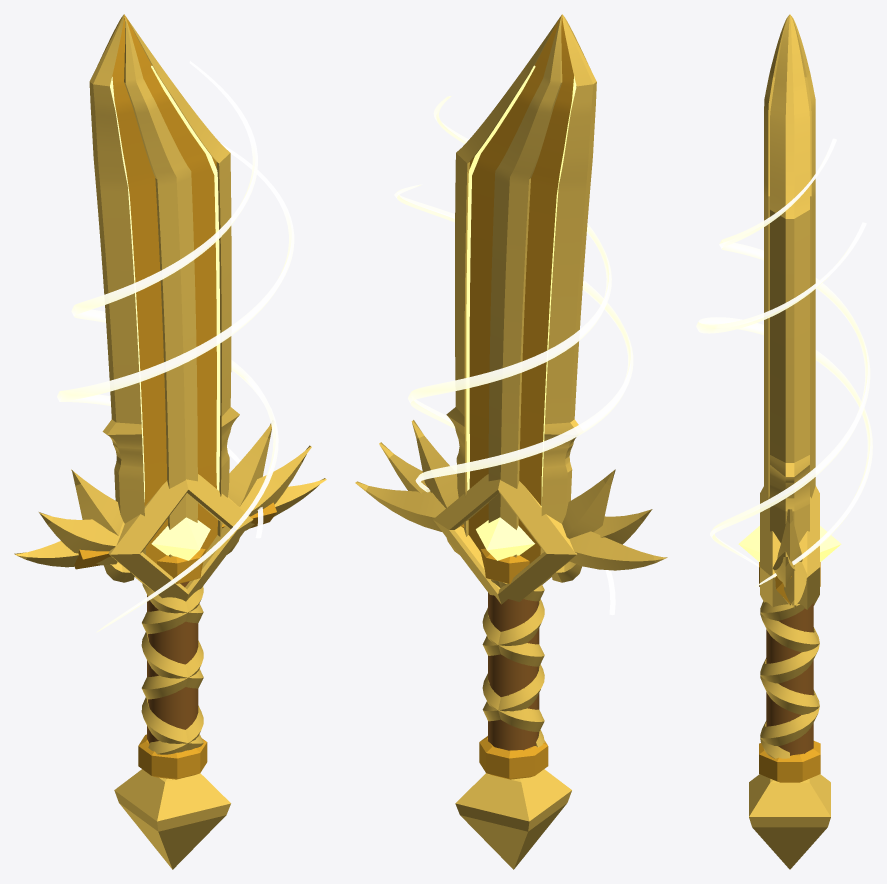
File: EpeeOr.fbx
3 views of the same model, side by side, from view 1: azimuth 30°, elevation 25°; view 2: azimuth 150°, elevation 25°; view 3: azimuth 270°, elevation 25° (orthographic). The views are drawn at different scales.
Parts seen in each view (by area): view 1: Lame, Fil, Gorge, Embout, Aura, Pommeau, Cadre, Tresse, Garde, Manche, Fissures, Gemme; view 2: Lame, Fil, Gorge, Embout, Aura, Cadre, Pommeau, Tresse, Manche, Garde, Fissures, Gemme; view 3: Fil, Aura, Pommeau, Gorge, Tresse, Cadre, Manche, Garde, Embout, Gemme.
Boxes of the visible parts, x1=… form: Lame: x1=112, y1=14, x2=217, y2=563; Fil: x1=89, y1=14, x2=239, y2=554; Gorge: x1=124, y1=15, x2=197, y2=557; Embout: x1=14, y1=423, x2=326, y2=582; Aura: x1=57, y1=61, x2=294, y2=632; Pommeau: x1=114, y1=769, x2=230, y2=869; Cadre: x1=108, y1=474, x2=253, y2=601; Tresse: x1=141, y1=583, x2=203, y2=754; Garde: x1=74, y1=502, x2=276, y2=779; Manche: x1=147, y1=581, x2=198, y2=743; Fissures: x1=110, y1=65, x2=220, y2=501; Gemme: x1=151, y1=517, x2=210, y2=560; Lame: x1=468, y1=15, x2=576, y2=563; Fil: x1=446, y1=14, x2=596, y2=554; Gorge: x1=488, y1=14, x2=562, y2=557; Embout: x1=355, y1=420, x2=667, y2=582; Aura: x1=394, y1=96, x2=633, y2=615; Cadre: x1=433, y1=474, x2=576, y2=604; Pommeau: x1=455, y1=769, x2=571, y2=869; Tresse: x1=482, y1=579, x2=544, y2=747; Manche: x1=488, y1=592, x2=539, y2=750; Garde: x1=409, y1=512, x2=603, y2=779; Fissures: x1=466, y1=65, x2=576, y2=506; Gemme: x1=476, y1=517, x2=534, y2=560; Fil: x1=770, y1=14, x2=809, y2=542; Aura: x1=696, y1=138, x2=872, y2=586; Pommeau: x1=749, y1=774, x2=830, y2=869; Gorge: x1=764, y1=15, x2=815, y2=498; Tresse: x1=760, y1=601, x2=819, y2=758; Cadre: x1=760, y1=486, x2=819, y2=609; Manche: x1=766, y1=603, x2=813, y2=755; Garde: x1=759, y1=562, x2=820, y2=782; Embout: x1=773, y1=509, x2=807, y2=607; Gemme: x1=738, y1=526, x2=841, y2=561.
Bounding box in the file's own units: 160 × 427 × 82.12.
